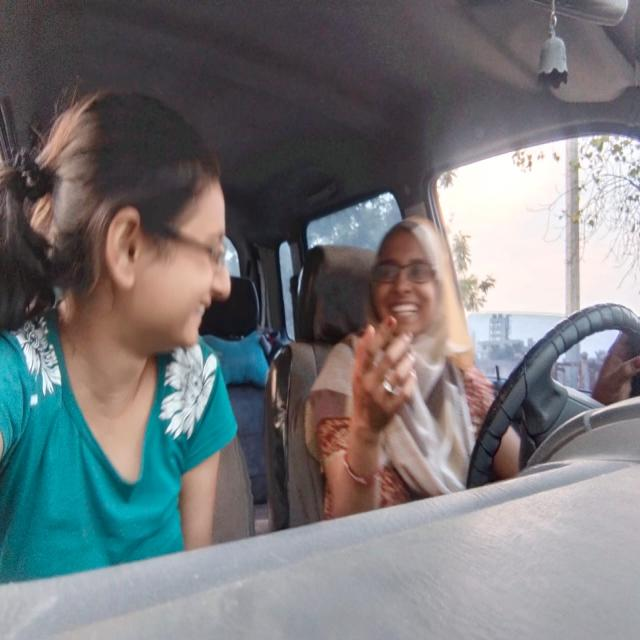LeftRight: (370, 219, 447, 340)
person: (58, 80, 236, 363)
talking: (186, 295, 218, 326), (382, 299, 426, 320)
